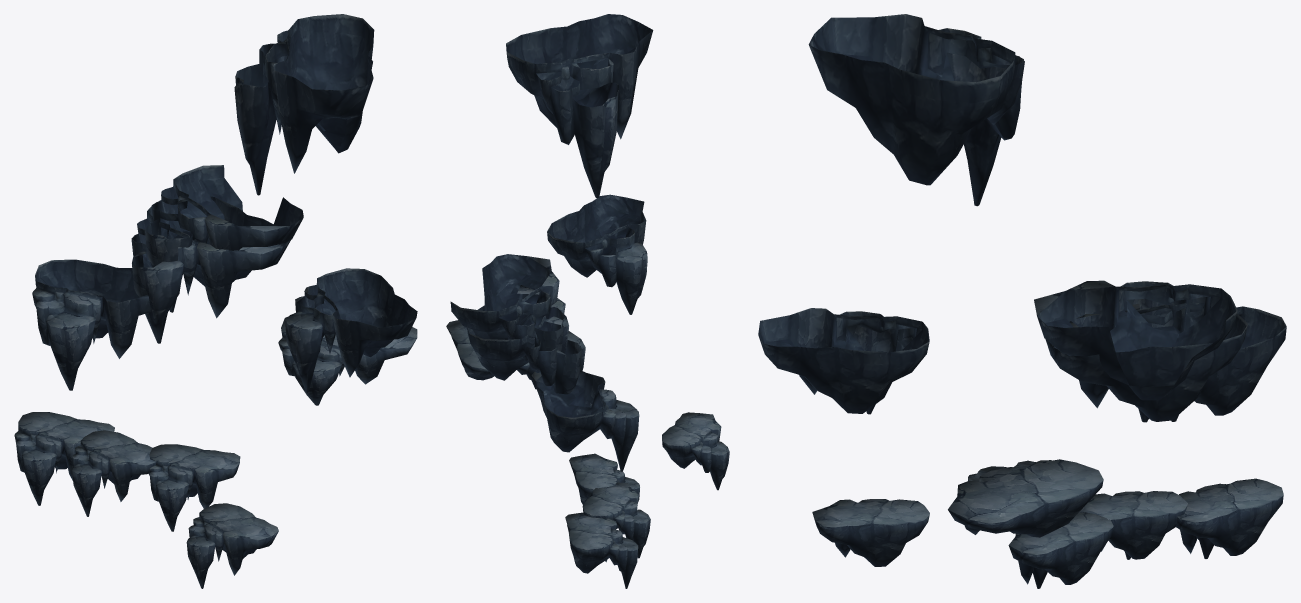
The model's file is Area_02_5.fbx.
The picture shows the model from 3 angles, left to right: view 1: azimuth 30°, elevation 25°; view 2: azimuth 150°, elevation 25°; view 3: azimuth 270°, elevation 25°; orthographic projection. The views are drawn at different scales.
Parts seen in each view (by area): view 1: Area_02_5; view 2: Area_02_5; view 3: Area_02_5.
Boxes of the visible parts, x1=… form: Area_02_5: x1=14, y1=14, x2=417, y2=588; Area_02_5: x1=446, y1=14, x2=729, y2=588; Area_02_5: x1=758, y1=14, x2=1286, y2=588.
Size of the model in its own units: 6304 by 9868 by 7683.
